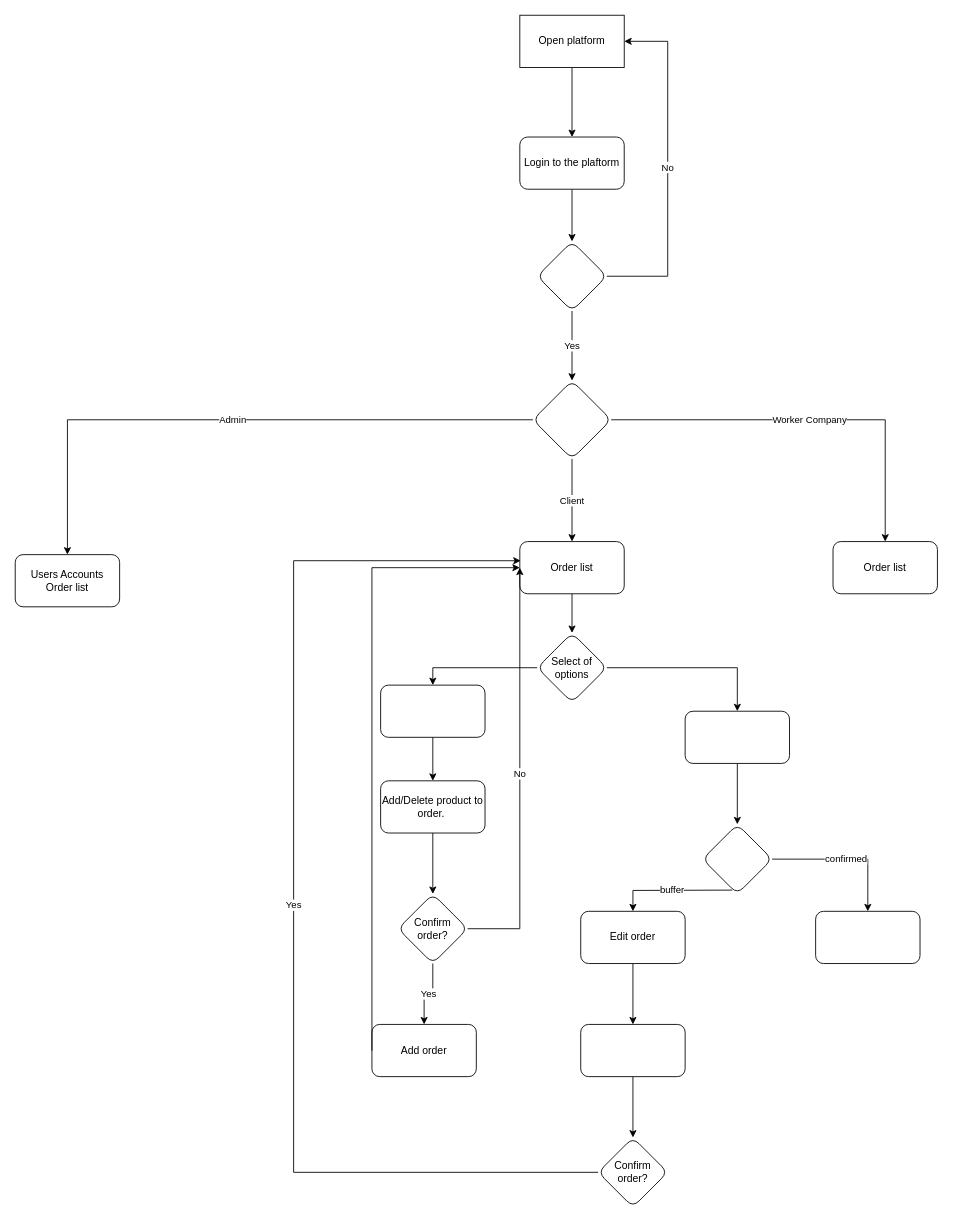
This 953x1222 diagram has some shape labels left out. Each missing label, with the box of its shape:
Add/Delete product to order: (580, 1024, 685, 1077)
Choice order: (684, 710, 790, 763)
Create order: (380, 684, 485, 737)
Is the data correct?: (536, 241, 607, 311)
Status of order?: (702, 823, 772, 894)
What kind of account?: (532, 380, 611, 459)
